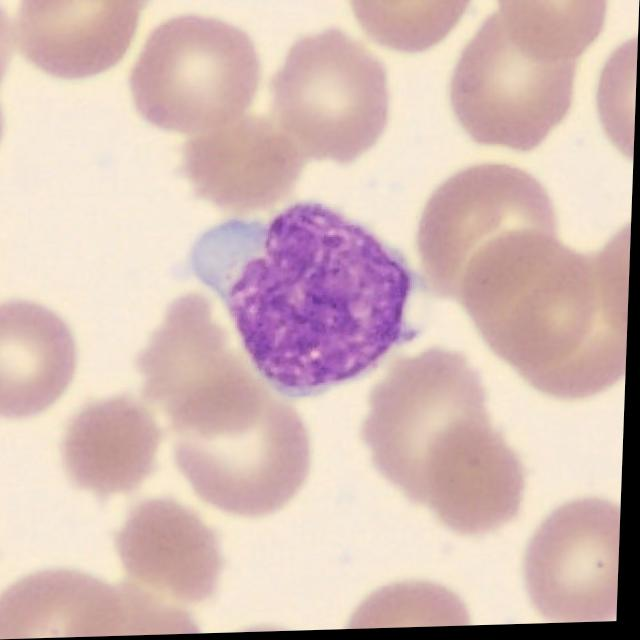Linfocito: (195, 204, 416, 399)
